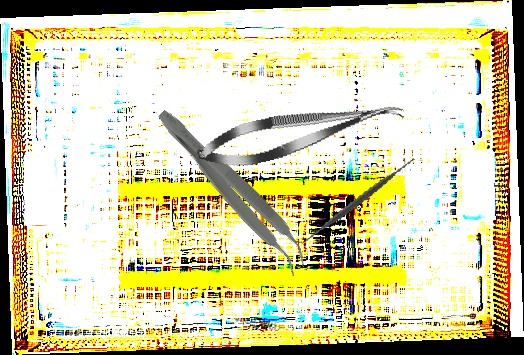Micro Scissor: (192, 87, 408, 177)
Spatula Surgical: (293, 136, 423, 266)
Tissue Forceps: (145, 103, 318, 279)
